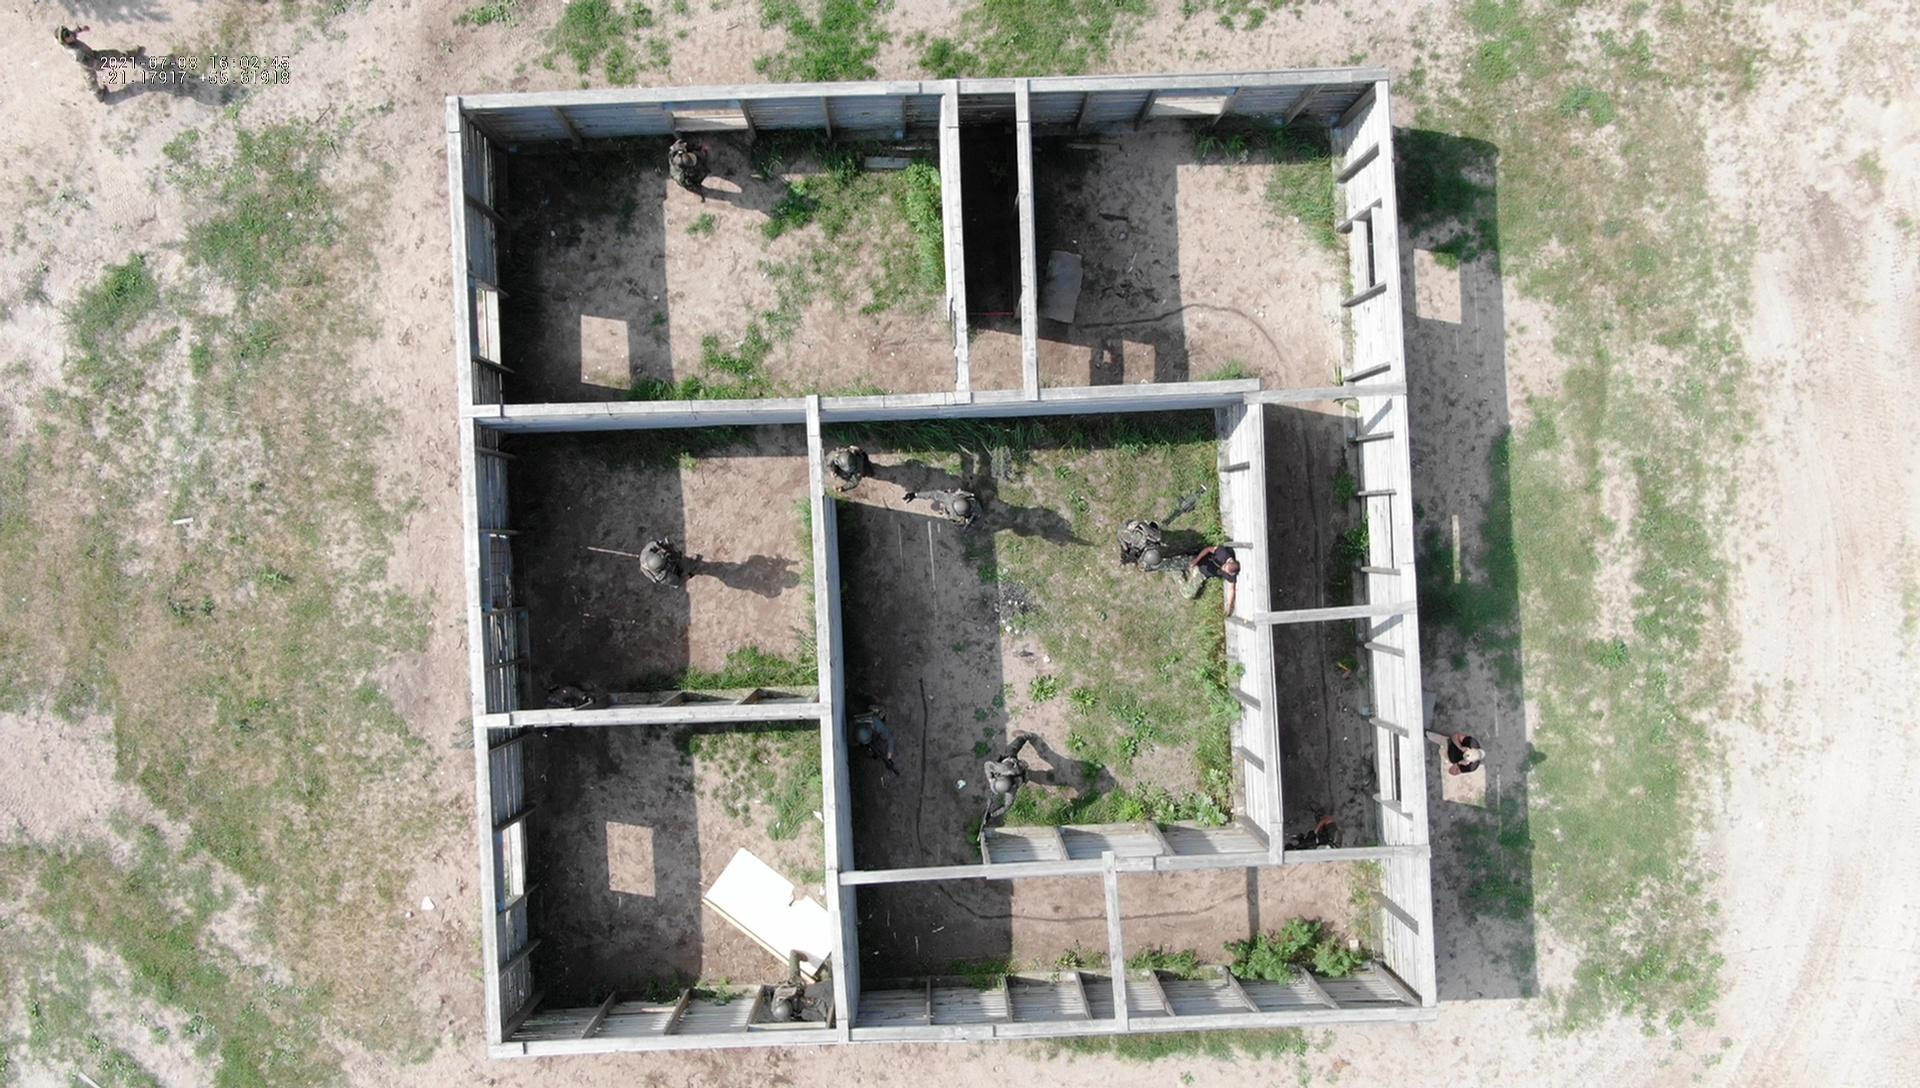Soldier: (40, 26, 148, 111), (1143, 537, 1250, 619), (975, 729, 1048, 839), (1116, 506, 1207, 583), (913, 469, 996, 551), (752, 947, 822, 1027), (661, 116, 735, 189), (841, 699, 903, 782), (626, 535, 696, 599), (829, 443, 884, 510)
